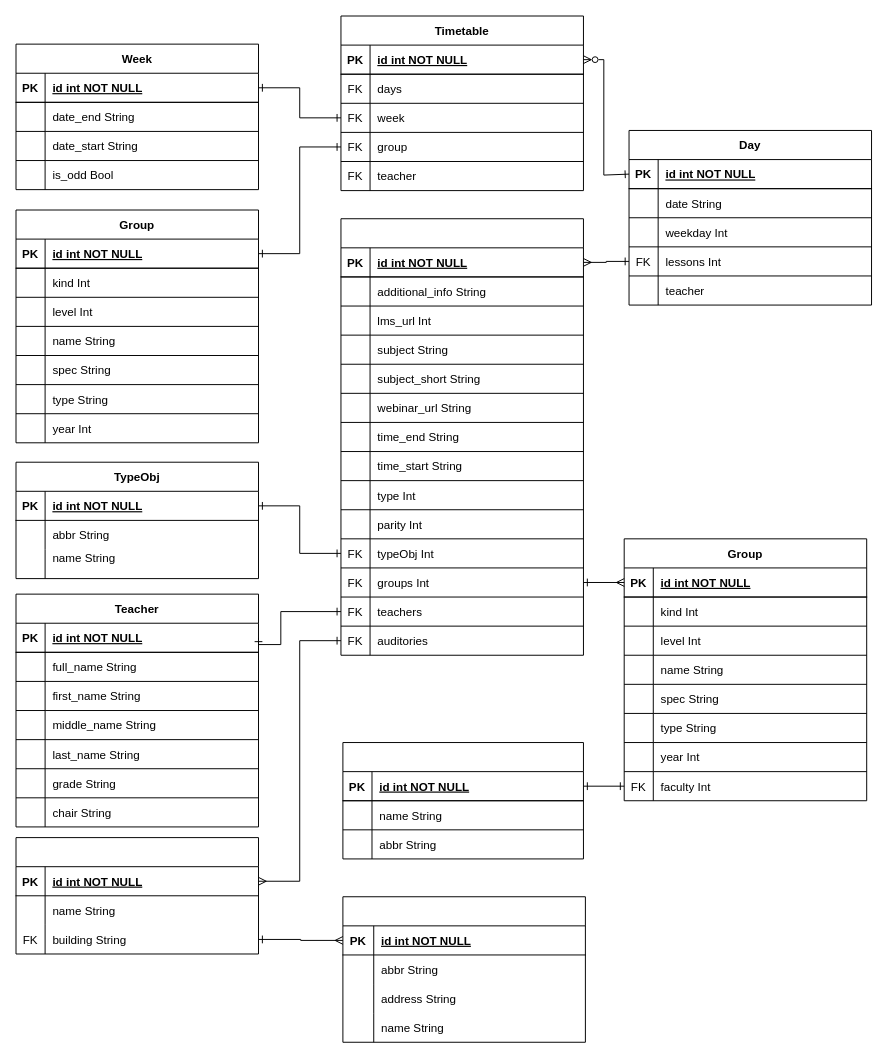
Image size: 888x1058. Some labels were removed from this diagram. Each missing label, with the box of its shape:
Auditorie: (15, 837, 259, 954)
Building: (342, 896, 585, 1042)
Faculty: (342, 742, 583, 859)
Lesson: (340, 218, 583, 655)
